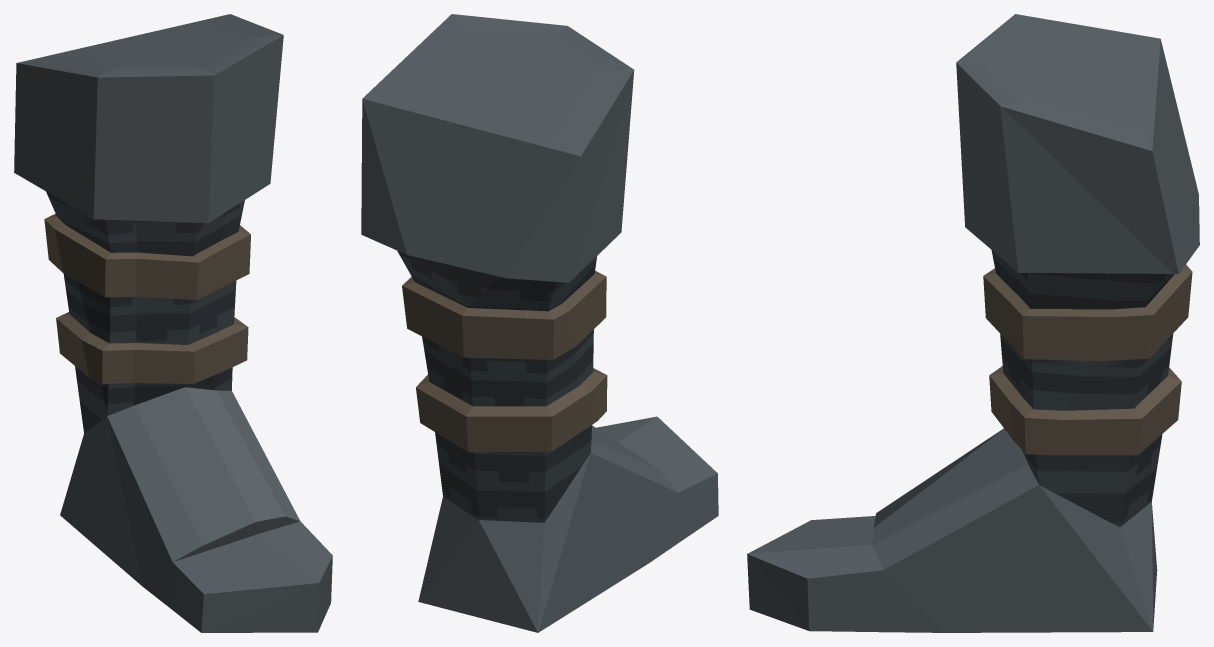
Rendered from Chr_LegLeft_Male_07_Static.fbx.
3 views of the same model, side by side, from view 1: azimuth 30°, elevation 25°; view 2: azimuth 150°, elevation 25°; view 3: azimuth 270°, elevation 25° (orthographic). The views are drawn at different scales.
Parts seen in each view (by area): view 1: Chr_LegLeft_Male_07_Static; view 2: Chr_LegLeft_Male_07_Static; view 3: Chr_LegLeft_Male_07_Static.
Boxes of the visible parts, box(x1,y1,x2,y2) form: Chr_LegLeft_Male_07_Static: box(14, 14, 332, 632); Chr_LegLeft_Male_07_Static: box(361, 14, 718, 632); Chr_LegLeft_Male_07_Static: box(747, 14, 1199, 632).
Bounding box in the file's own units: 0.1816 × 0.4088 × 0.3071.
